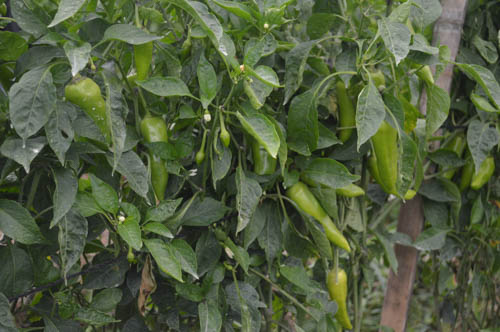ChiliPepper: (287, 183, 352, 250), (67, 80, 106, 145), (140, 116, 165, 200), (374, 120, 397, 185), (325, 271, 351, 328), (247, 133, 273, 189), (338, 82, 359, 143)
